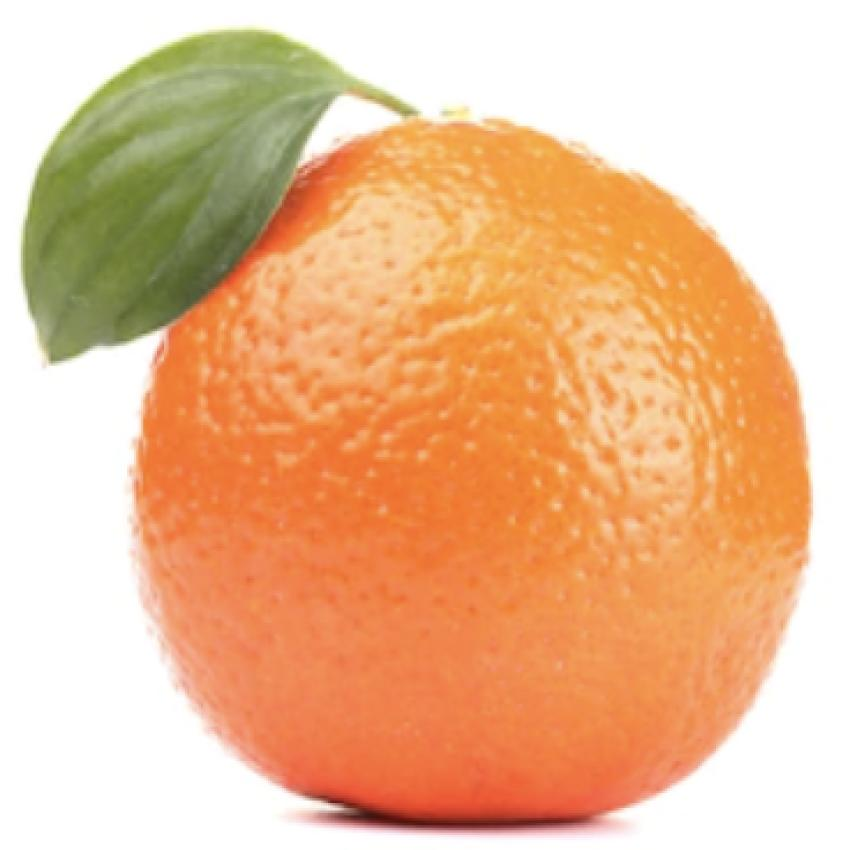Buen estado: (119, 95, 802, 828)
